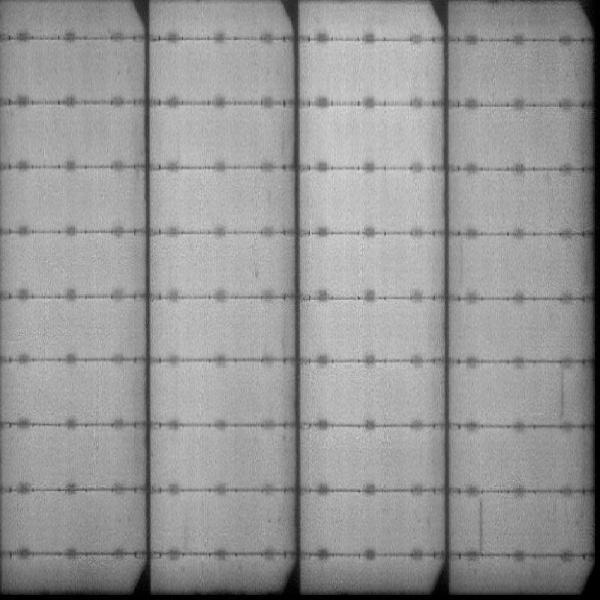scratch: (473, 496, 488, 549), (556, 363, 566, 415)
